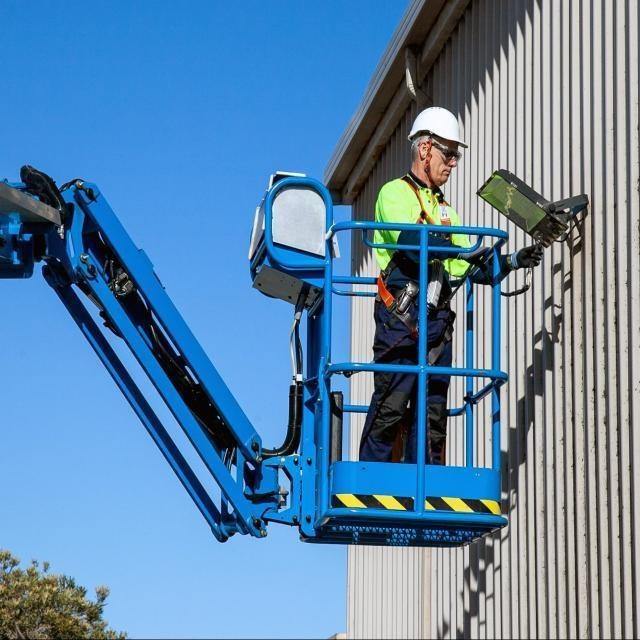Arnes_seguridad: (381, 259, 448, 323)
